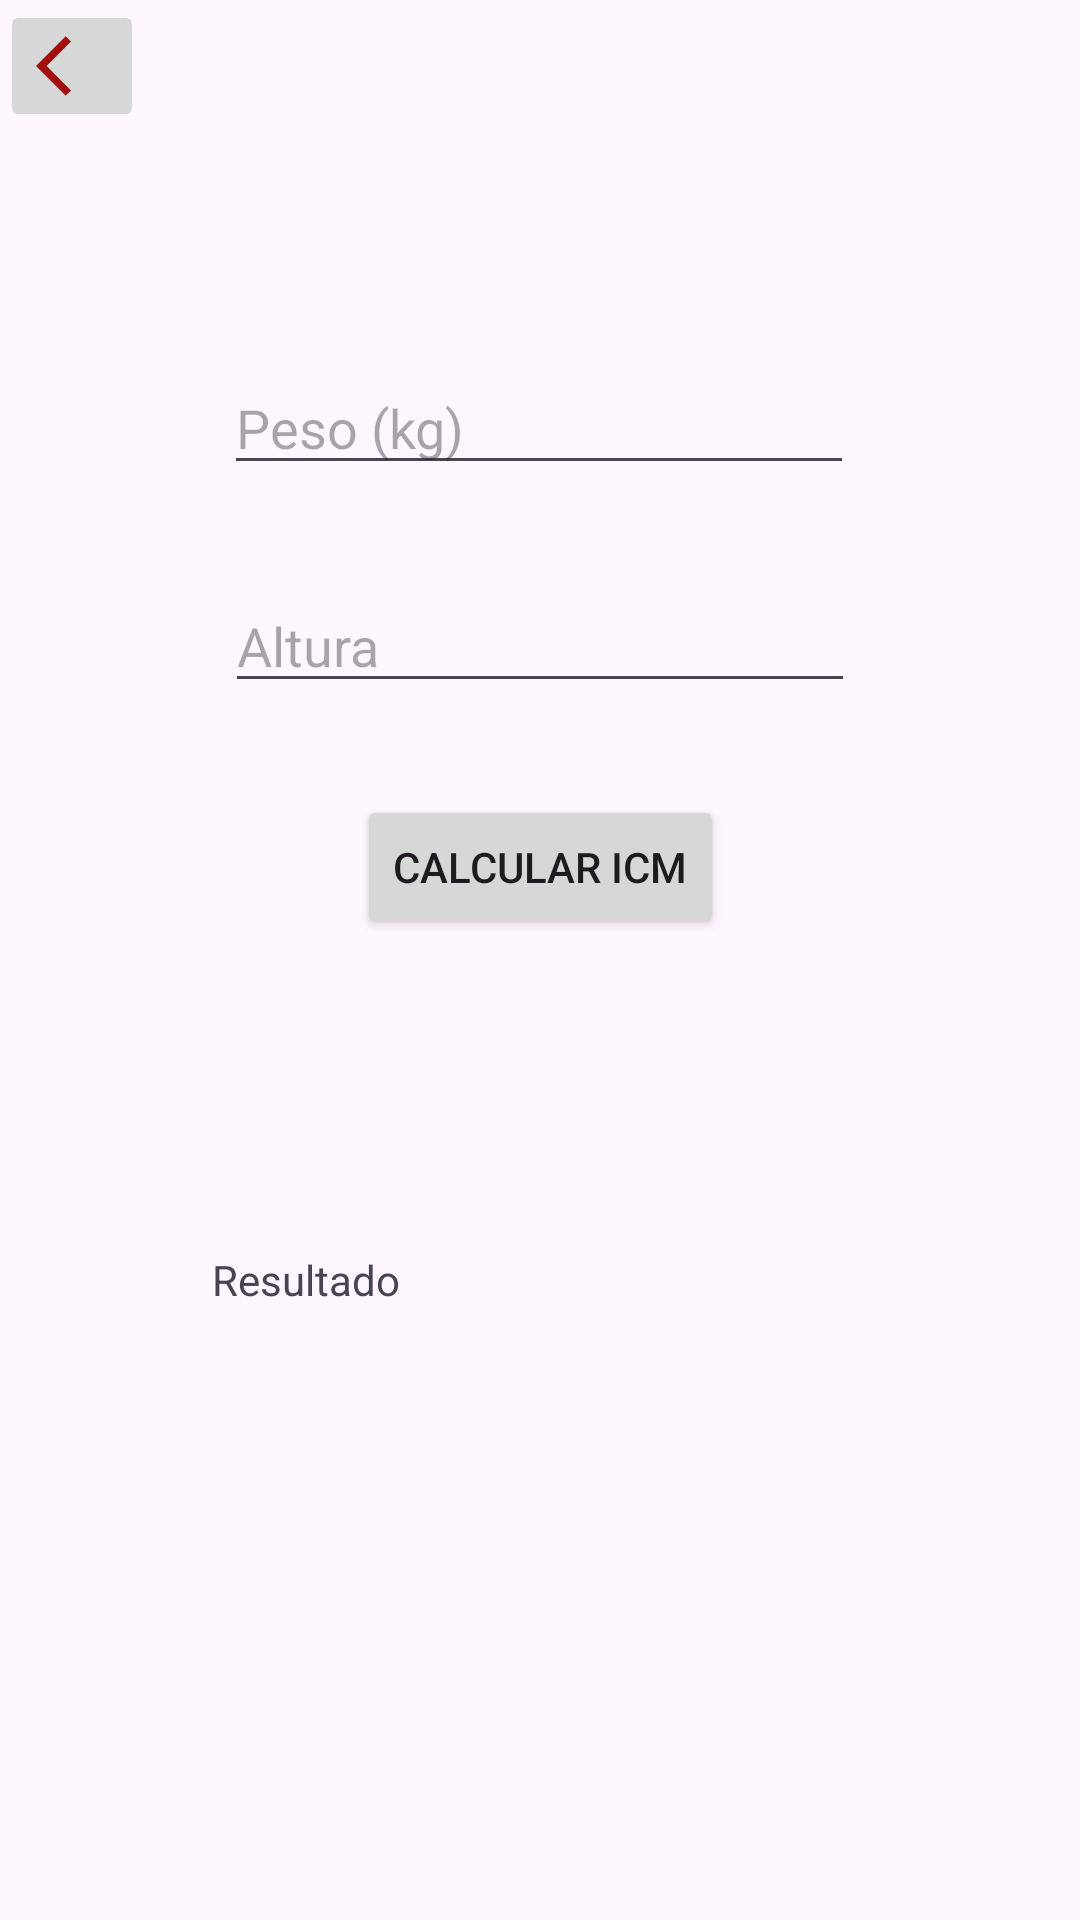

Screen size 1080x1920. Icon name, then its box in pixels as box(x1, y1, x2, y2):
arrow back: box(12, 18, 132, 114)
